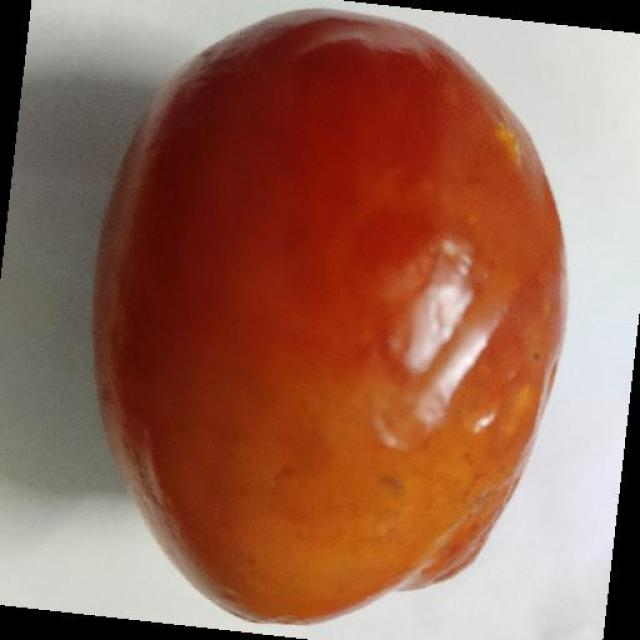Stale_tomato: (101, 7, 548, 595)
